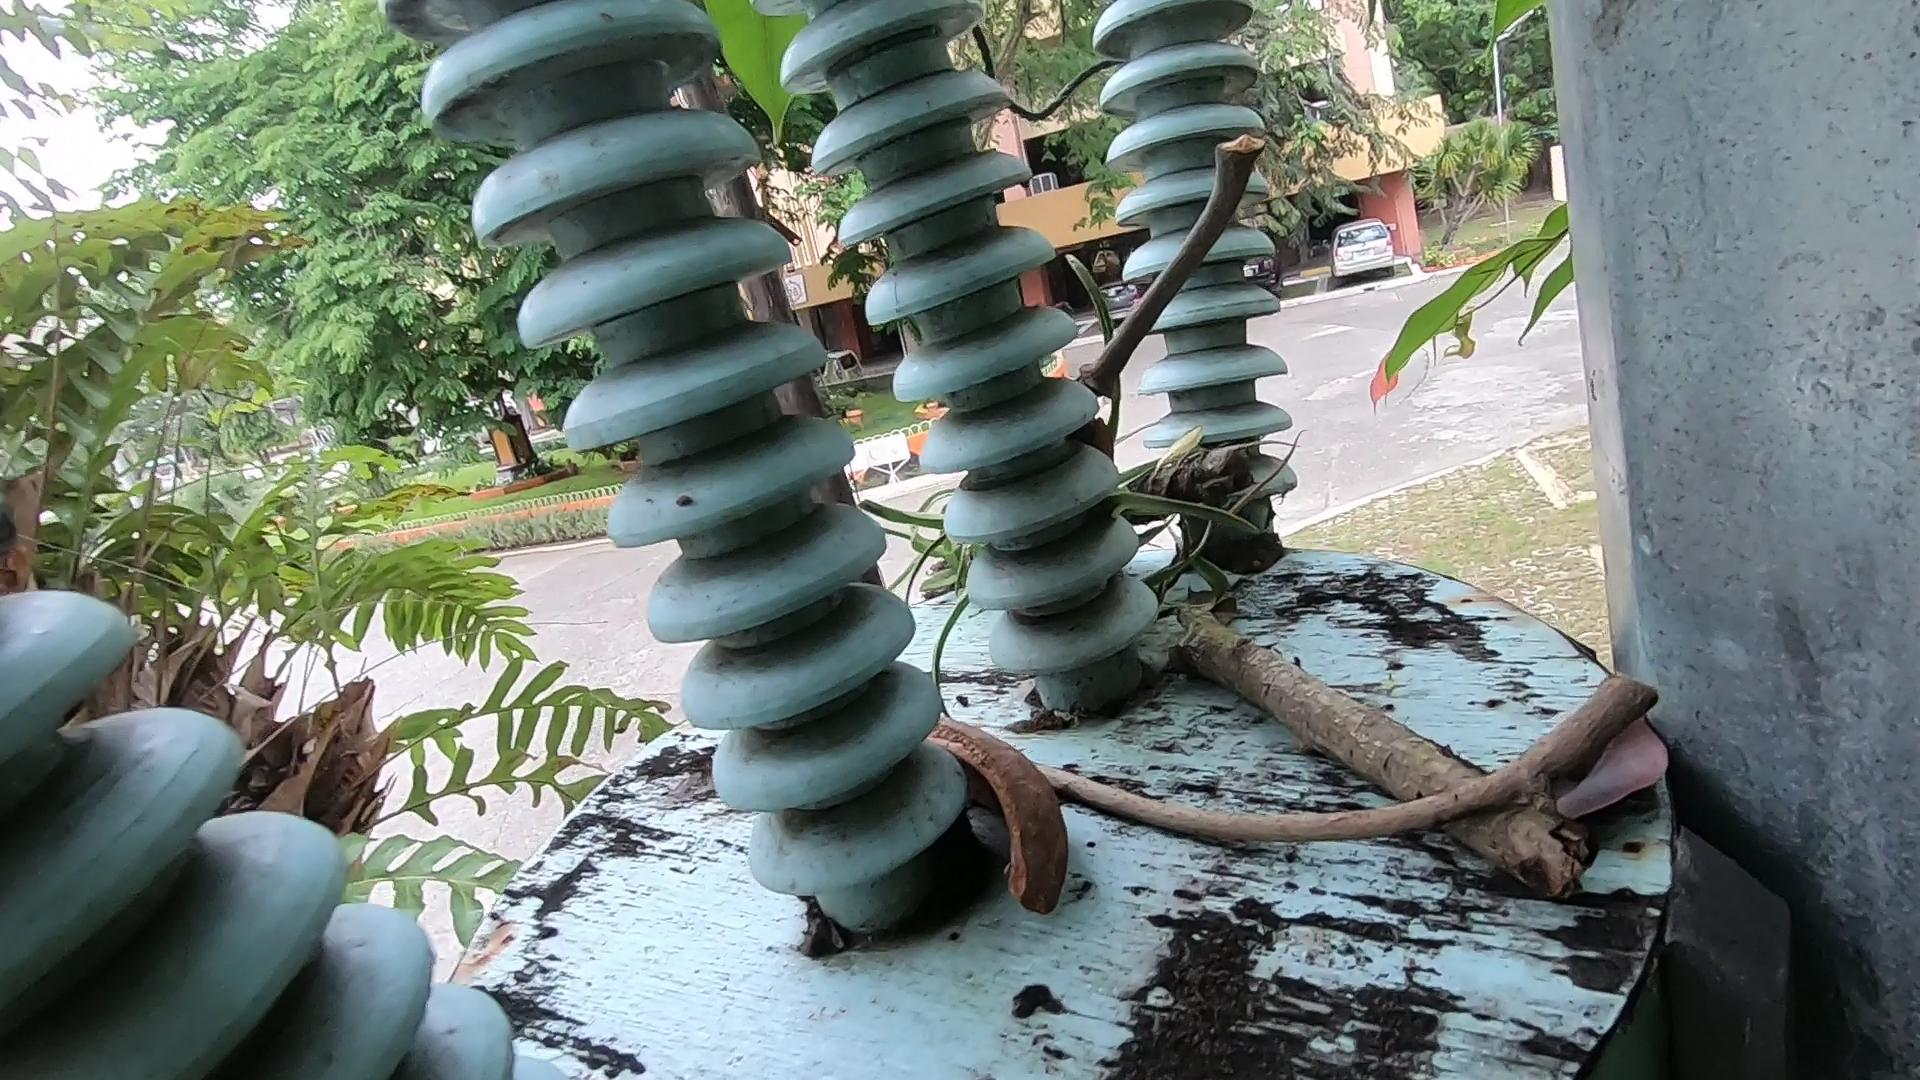branch with leaves: (901, 384, 1706, 930)
leaf: (953, 690, 1633, 907), (1545, 686, 1681, 873)
mahogany fruit: (885, 680, 1089, 955)
tree branch: (1010, 71, 1381, 480)
